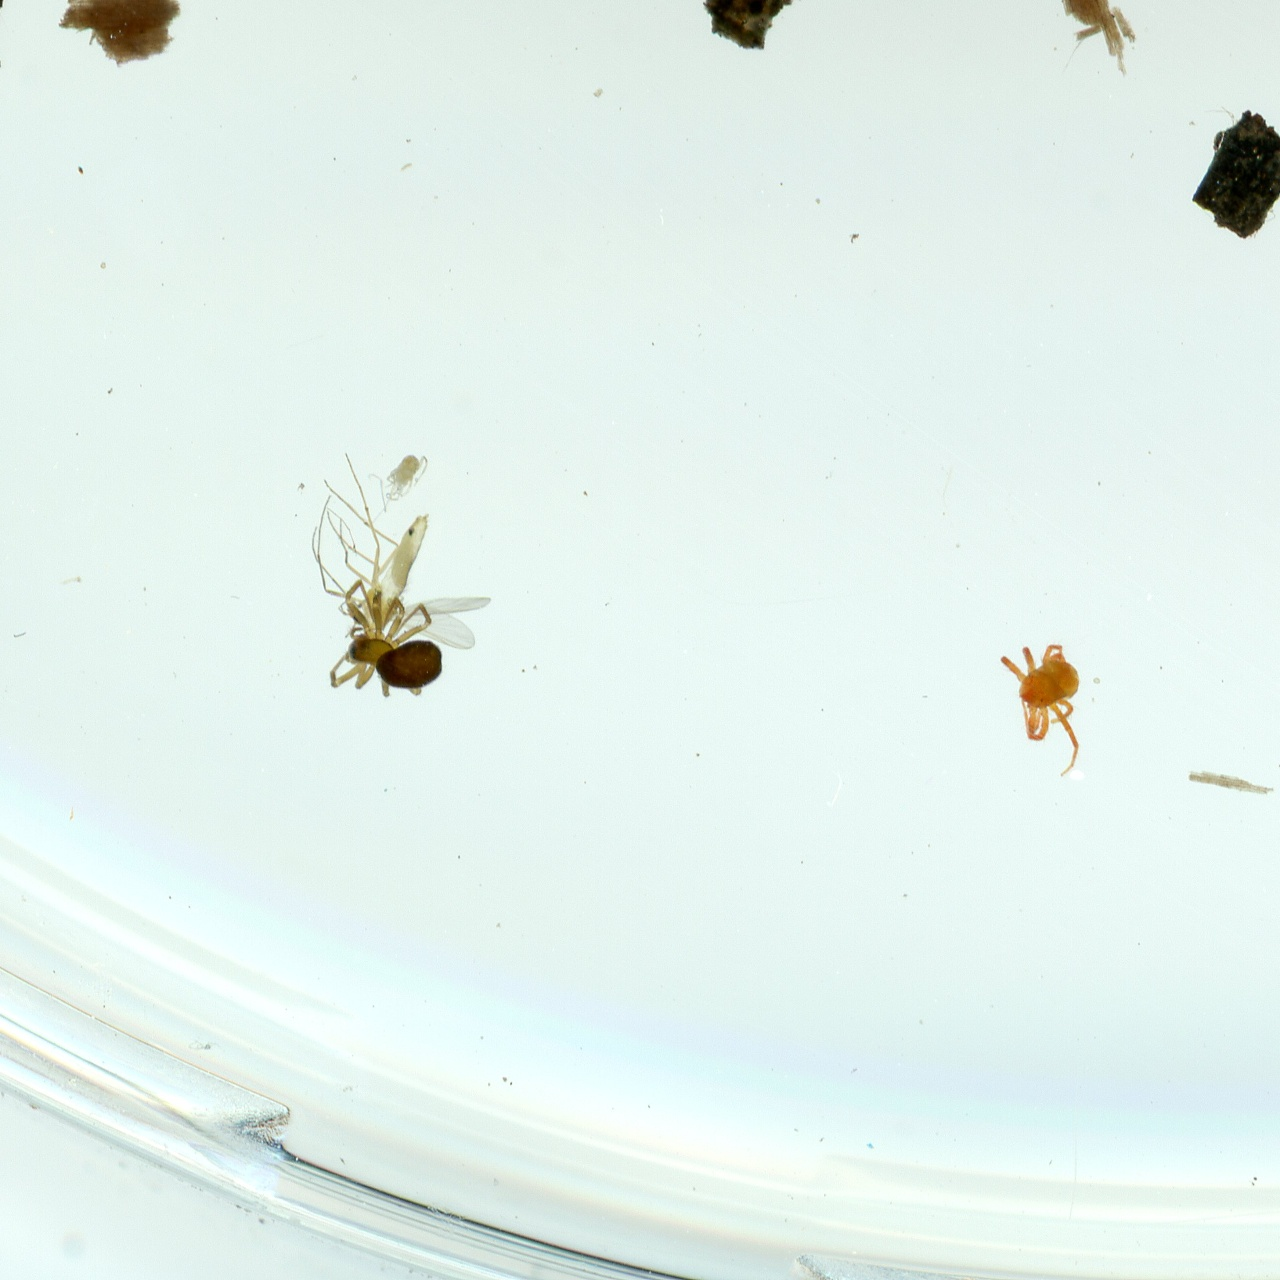arthropod: (261, 440, 525, 695), (305, 571, 467, 729), (989, 625, 1122, 788), (346, 434, 442, 532)
